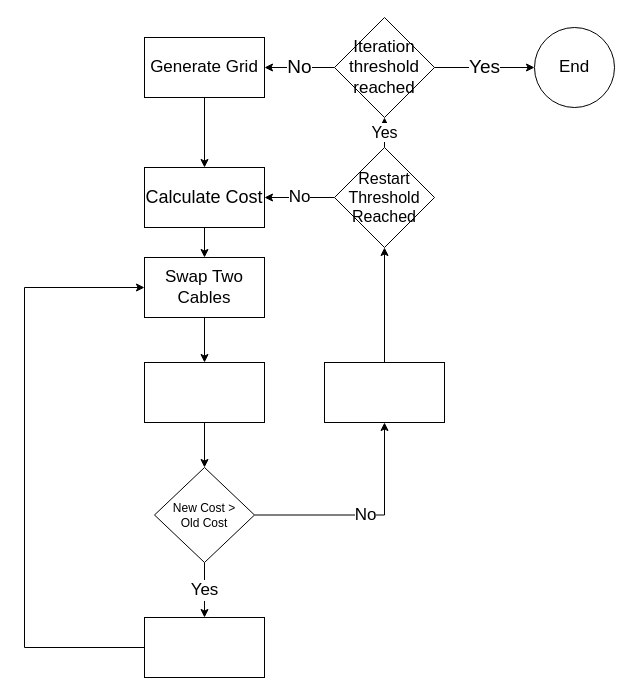
The diagram is 632 pixels wide and 695 high, and some of its shapes have lost their labels. Here are the shapes that lost their labels. From the top down, the centre of each, then its label:
At [204,392]: "Calculate New Cost".
At [384,392]: "Revert Change".
At [204,647]: "Implement Change".
